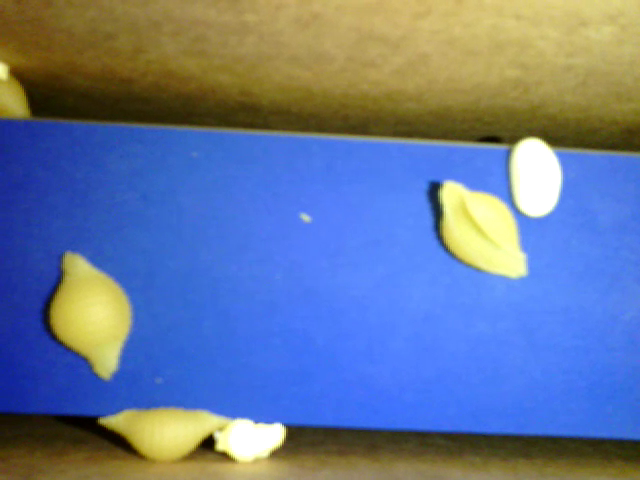shell: (38, 250, 135, 379), (435, 178, 532, 281), (96, 408, 231, 460)
